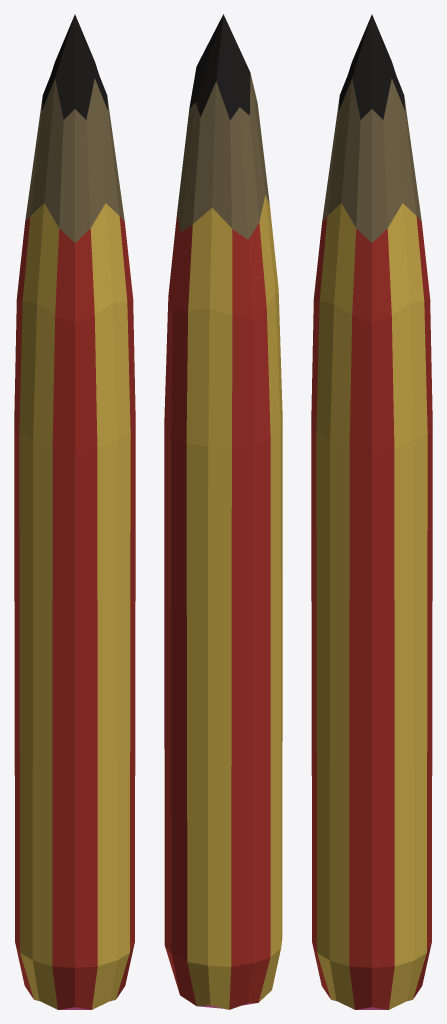
The model's file is Pencil.fbx.
3 renders of one model, left to right at view 1: azimuth 90°, elevation 25°; view 2: azimuth 210°, elevation 25°; view 3: azimuth 270°, elevation 25°, orthographic.
Parts seen in each view (by area): view 1: Cylinder; view 2: Cylinder; view 3: Cylinder.
Part boxes in pixels (<box>): Cylinder: <box>14,14,135,1009</box>; Cylinder: <box>164,14,282,1009</box>; Cylinder: <box>311,14,432,1009</box>.
Bounding box in the file's own units: 178 × 1608 × 178.
Materials: 1 (1 with a texture image).
